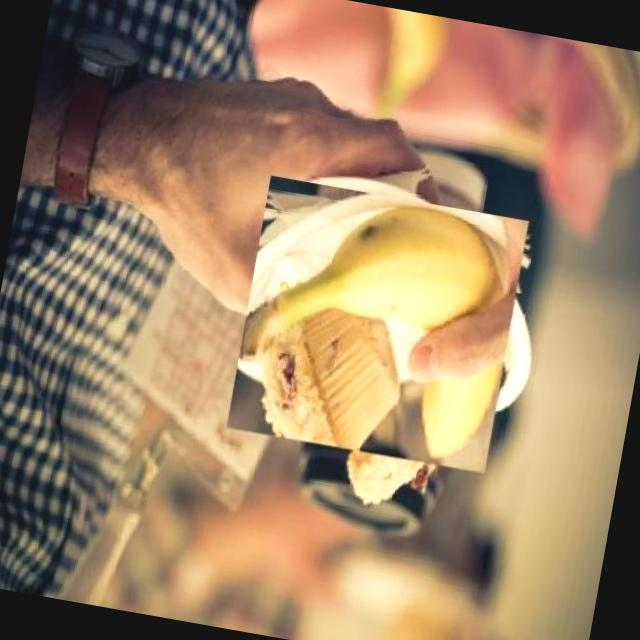Banana: (226, 174, 528, 473)
